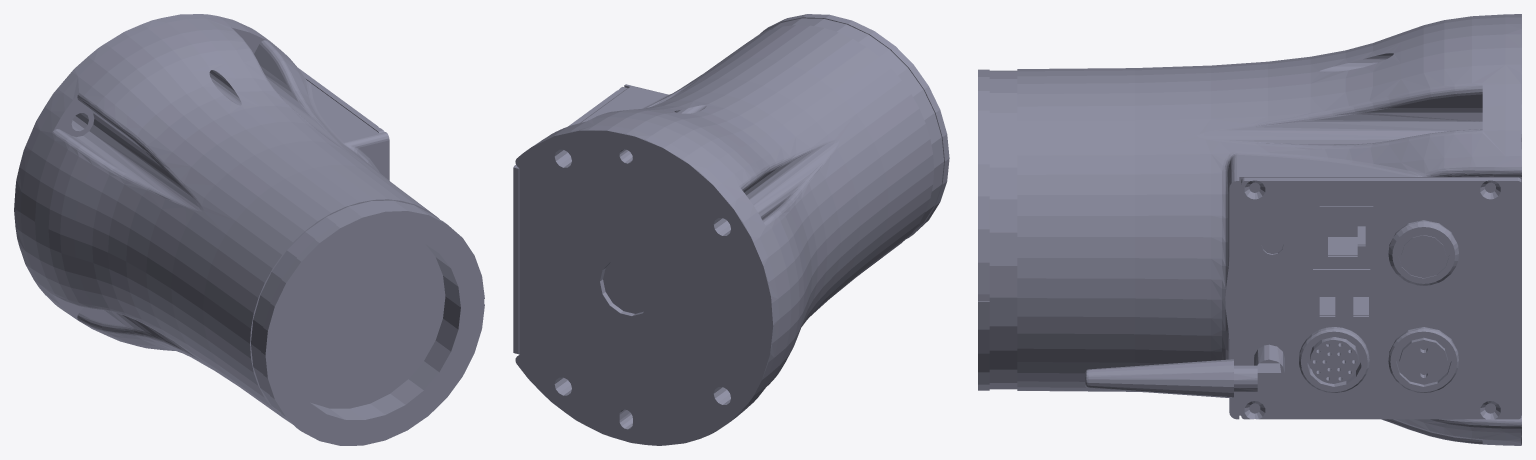
File: arm1_link0_visuals.obj
3 views of the same model, side by side, from view 1: azimuth 30°, elevation 25°; view 2: azimuth 150°, elevation 25°; view 3: azimuth 270°, elevation 25° (orthographic). The views are drawn at different scales.
Size of the model in its own units: 0.1143 by 0.11 by 0.1385.
